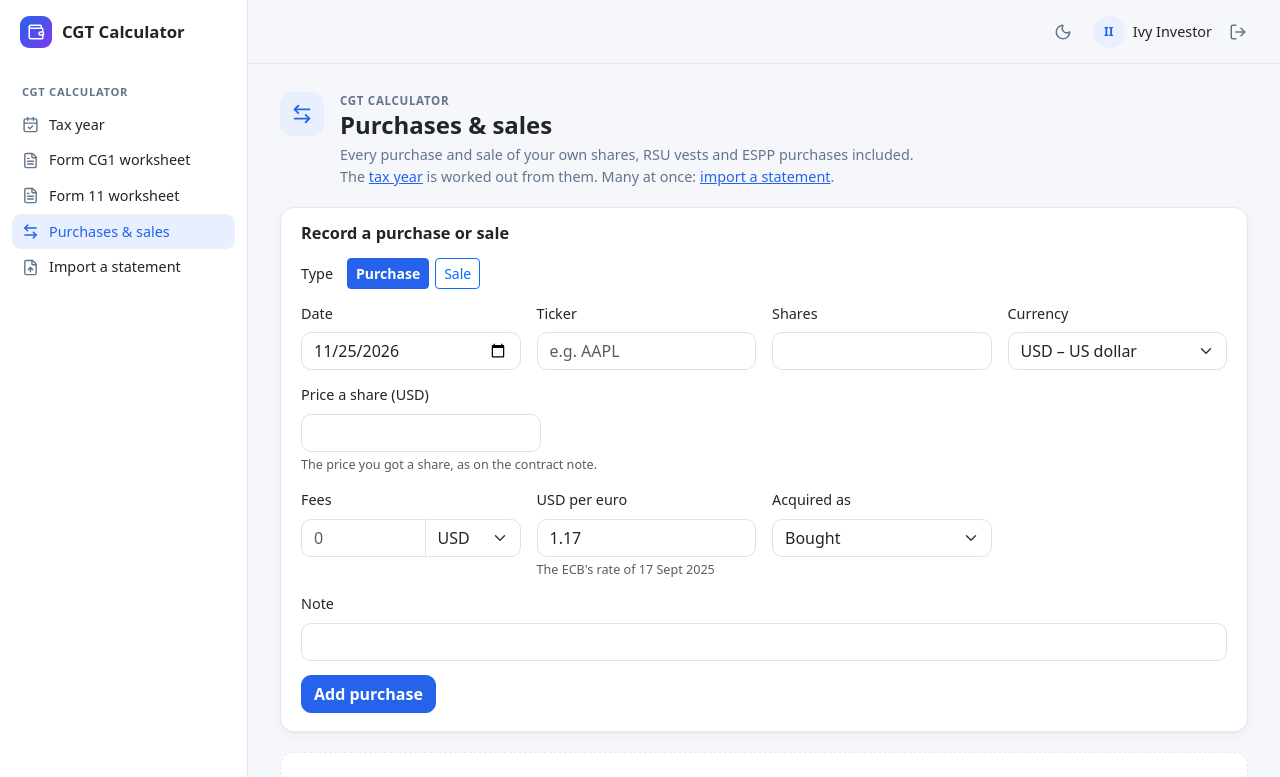
Test: CGT calculator: purchases and sales › shows the server's objections
Type "ACME" into the field labelled "Ticker" at coordinates (646, 352), box [536, 332, 756, 370]
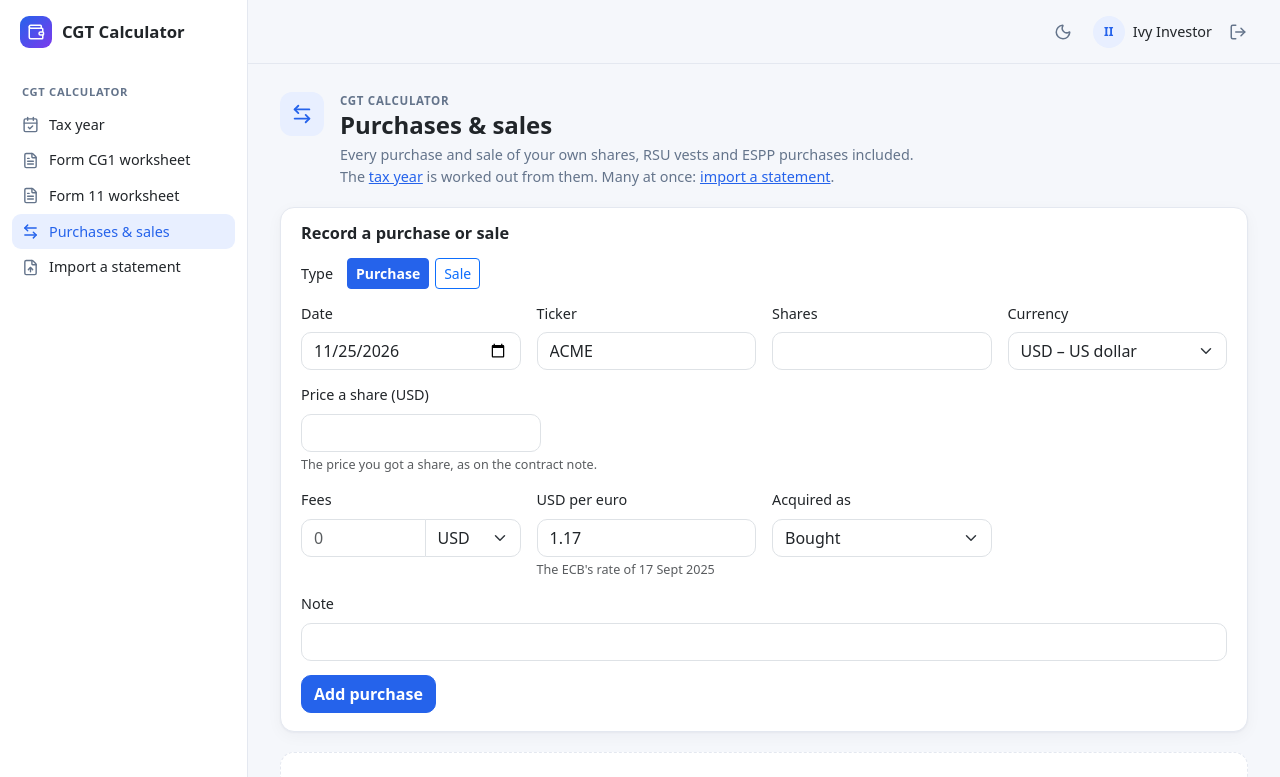
Type "1" into the field labelled "Shares" at coordinates (882, 352), box [772, 332, 992, 370]
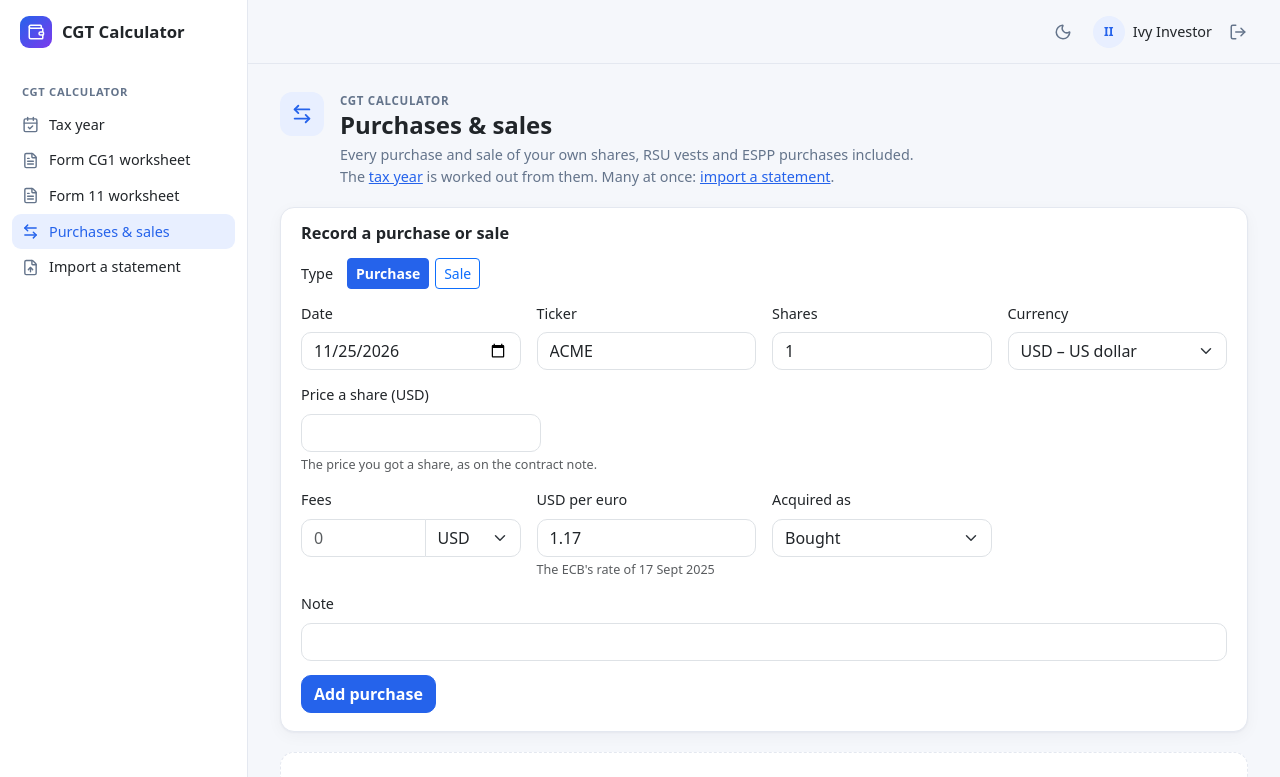
Type "1" into the field labelled "Price a share (USD)" at coordinates (421, 433), box [301, 414, 541, 452]
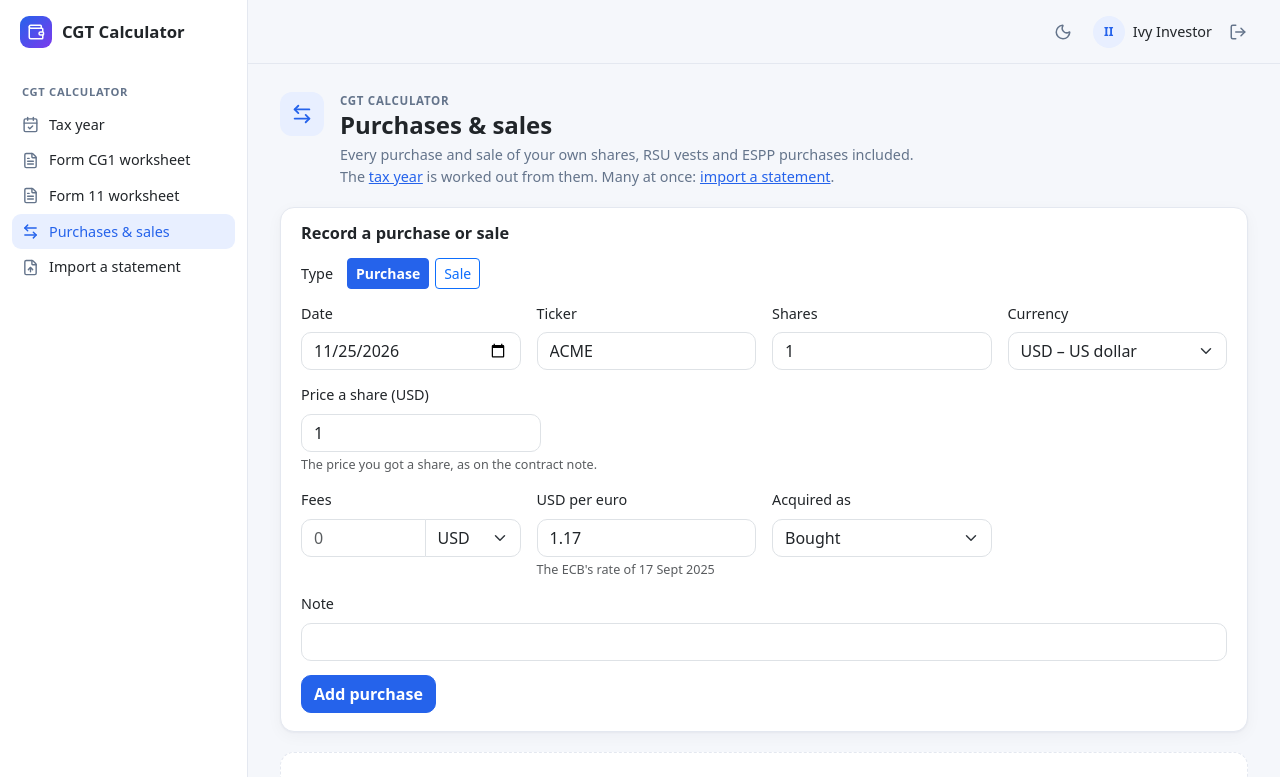
Click the button "Add purchase" at coordinates (368, 694), box [301, 675, 436, 713]
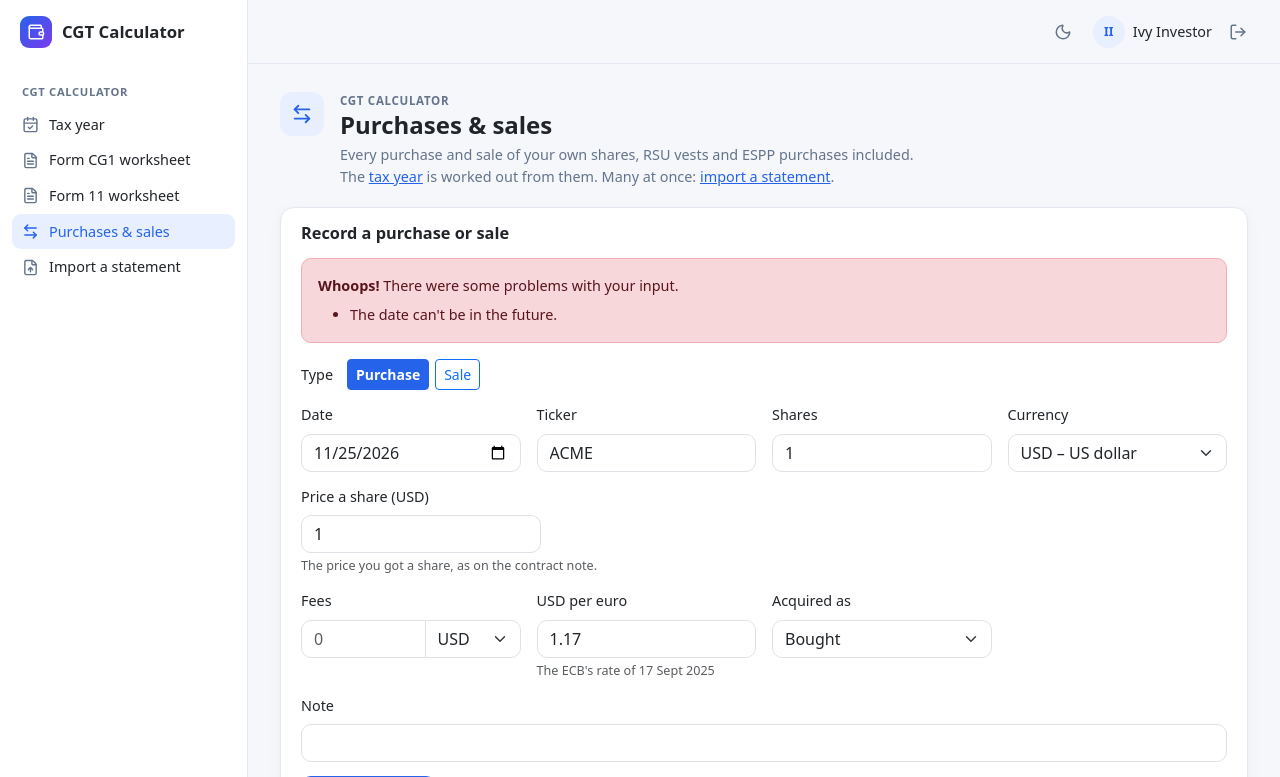
Expected: the message shows "The date can't be in the future.", [350, 306, 557, 324]
